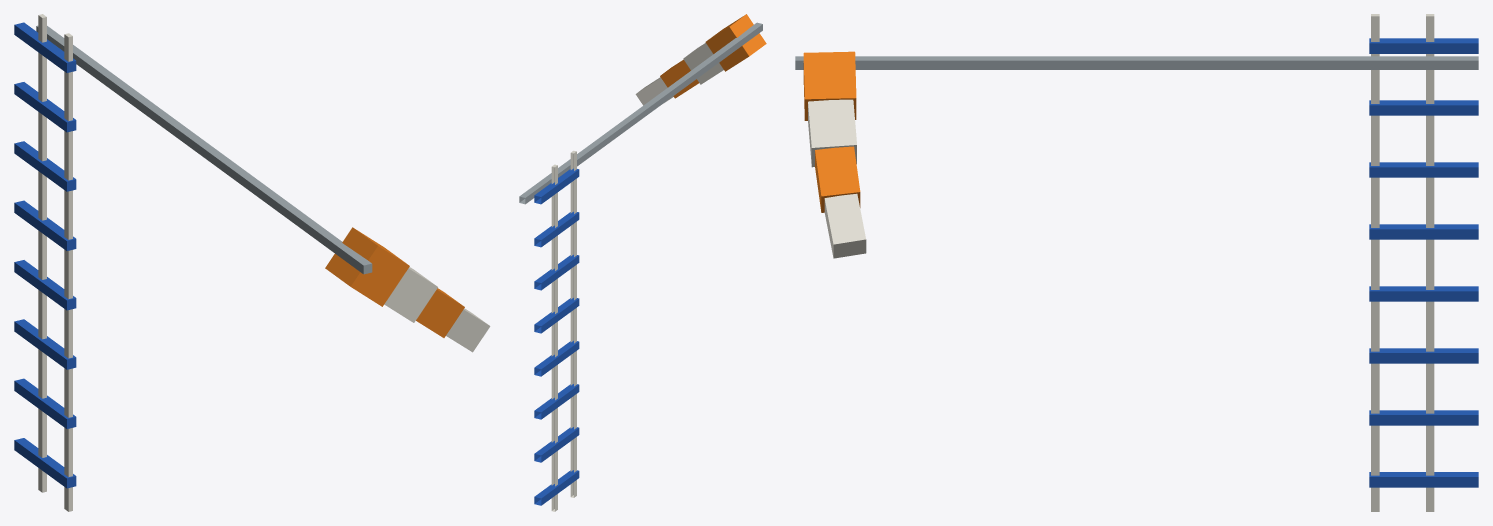
The model's file is frame_2.glb.
3 views of the same model, side by side, from view 1: azimuth 30°, elevation 25°; view 2: azimuth 150°, elevation 25°; view 3: azimuth 270°, elevation 25° (orthographic). The views are drawn at different scales.
Visible parts, largest first — view 1: t0_1_g39.002; view 2: t0_1_g39.002; view 3: t0_1_g39.002.
Boxes of the visible parts, bbox=[...] form: t0_1_g39.002: bbox=[14, 14, 490, 511]; t0_1_g39.002: bbox=[519, 14, 766, 511]; t0_1_g39.002: bbox=[795, 14, 1478, 511].
Bounding box in the file's own units: 5.89 × 16 × 20.
